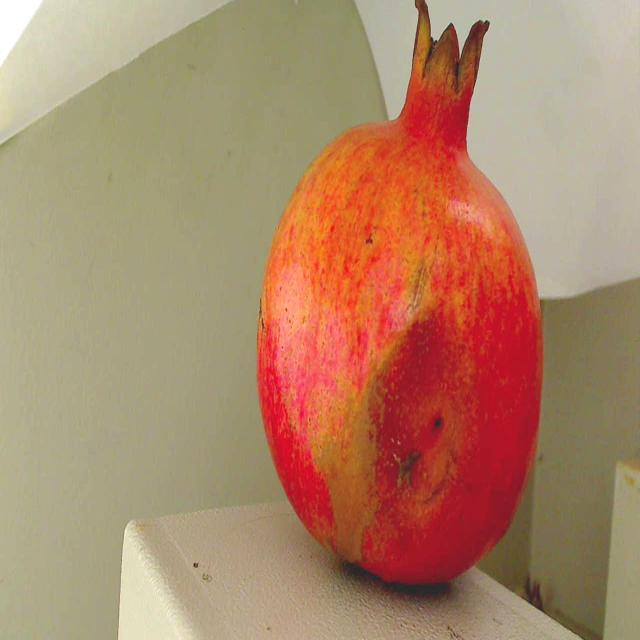pomegranate: (250, 0, 551, 609)
